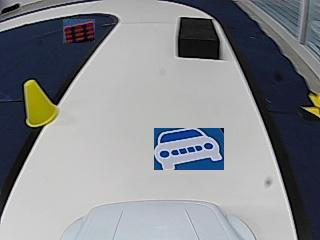block: (178, 17, 219, 59)
cone: (23, 80, 60, 127)
